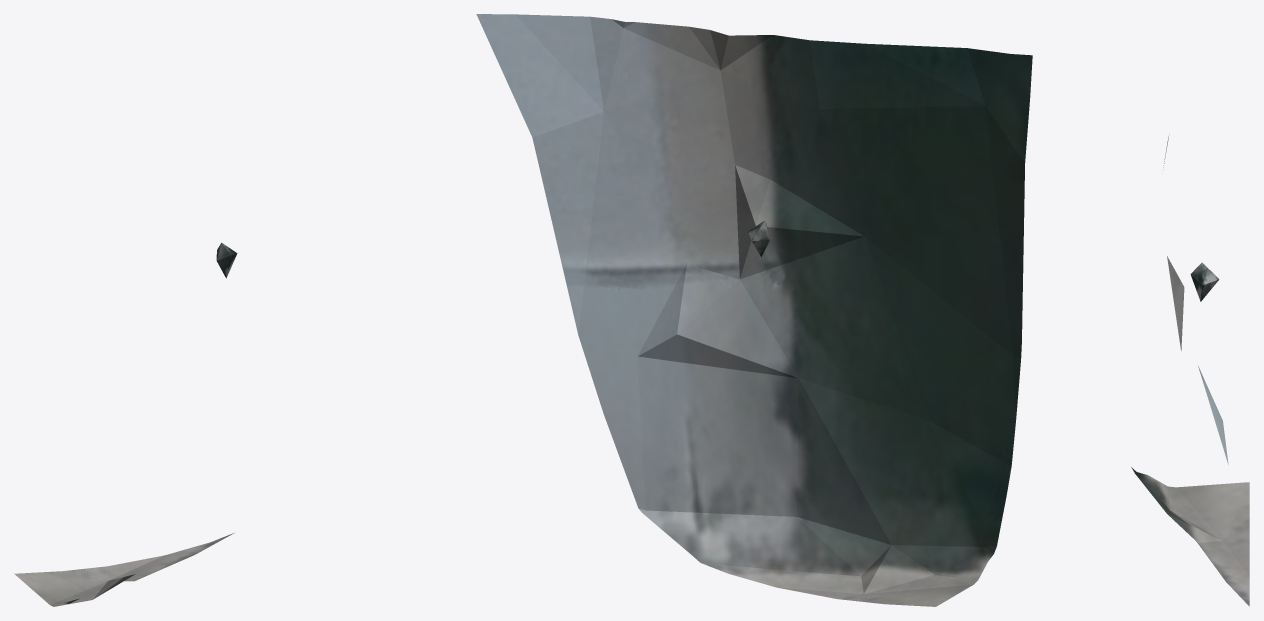
The picture shows the model from 3 angles, left to right: view 1: azimuth 30°, elevation 25°; view 2: azimuth 150°, elevation 25°; view 3: azimuth 270°, elevation 25°; orthographic projection. The views are drawn at different scales.
Size of the model in its own units: 0.6914 by 0.7191 by 0.2521.
2 materials, 2 textured.
